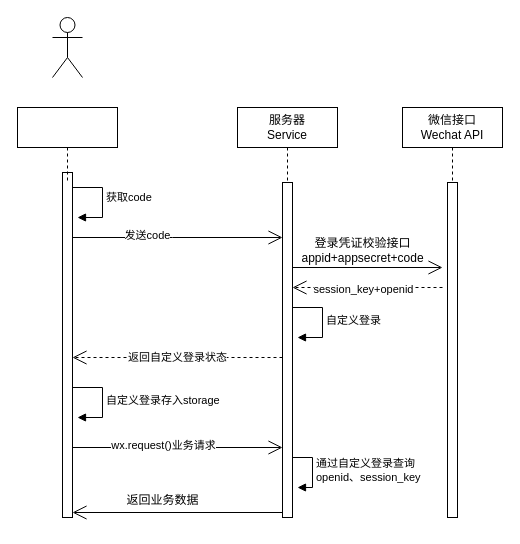
Image size: 520x544. Some labels were removed from this diagram. Here are the shapes that lost their labels. From the top down, the centre of each, then its label:
At [67,47]: "customer".
At [67,144]: "小程序".
